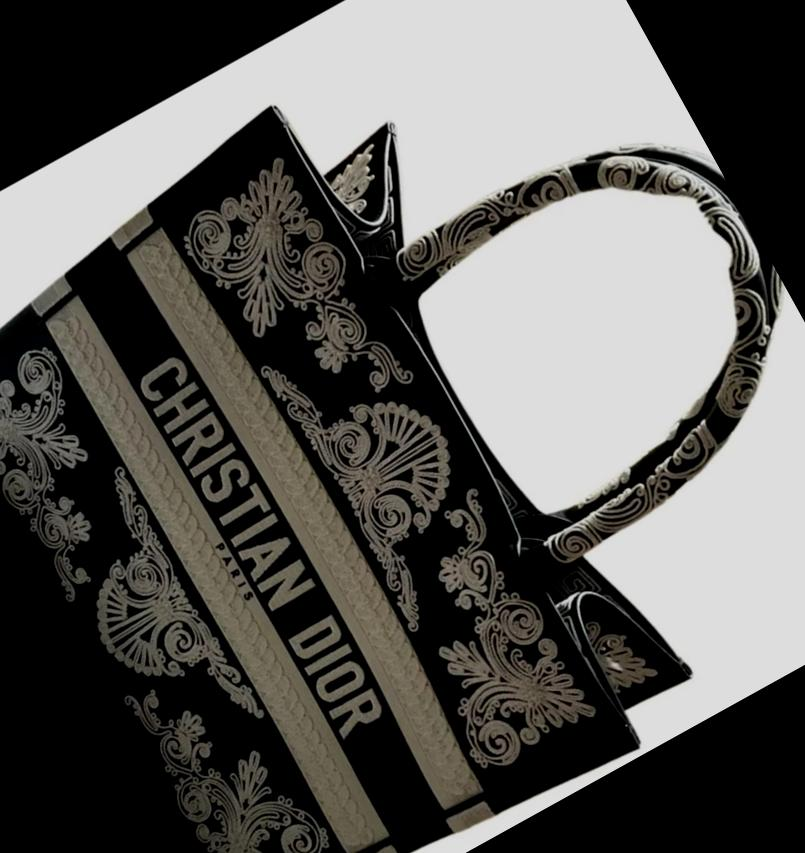DIOR: (102, 322, 417, 775)
